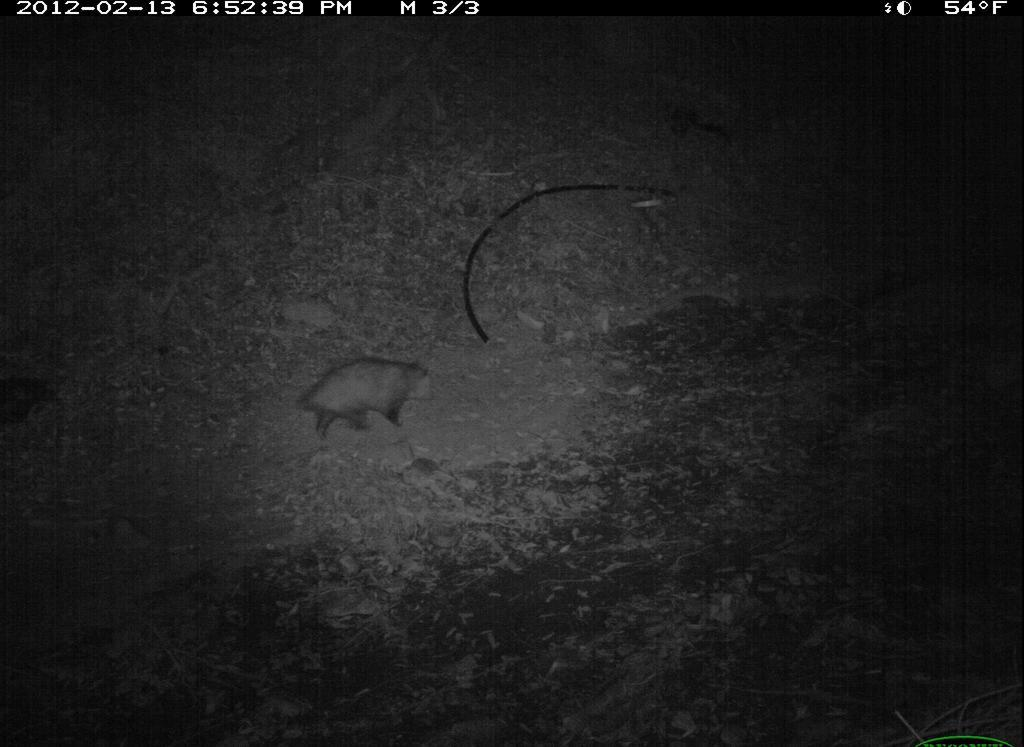opossum: (289, 356, 442, 447)
